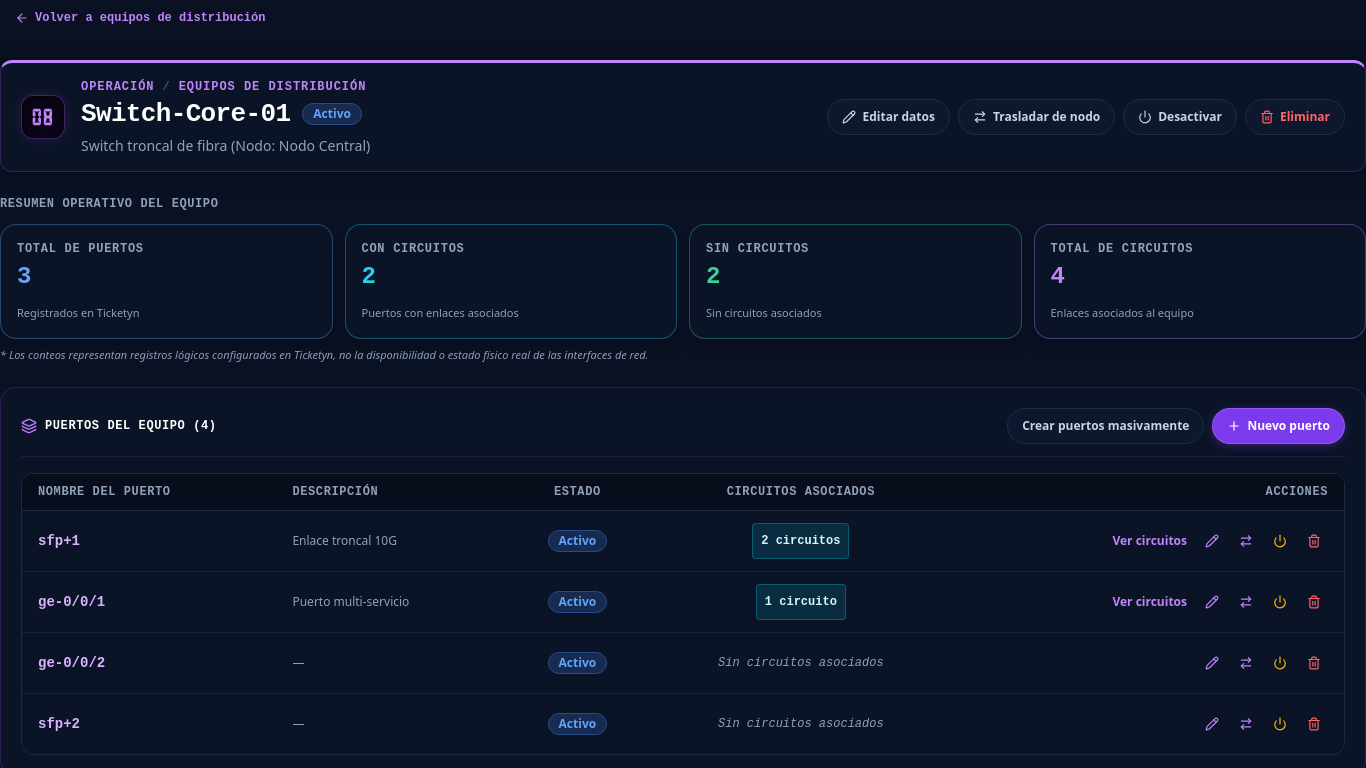
Test: DistributionDeviceDetail — Ficha técnica y gestión de puertos › bloquea la desactivación y eliminación de un puerto con circuitos
Expected: the text "sfp+1" is shown, [38,533,80,549]
// Attempt deactivate port with 2 circuits
Click the button named "Desactivar puerto sfp+1": (1280, 541) [1266,523,1294,559]
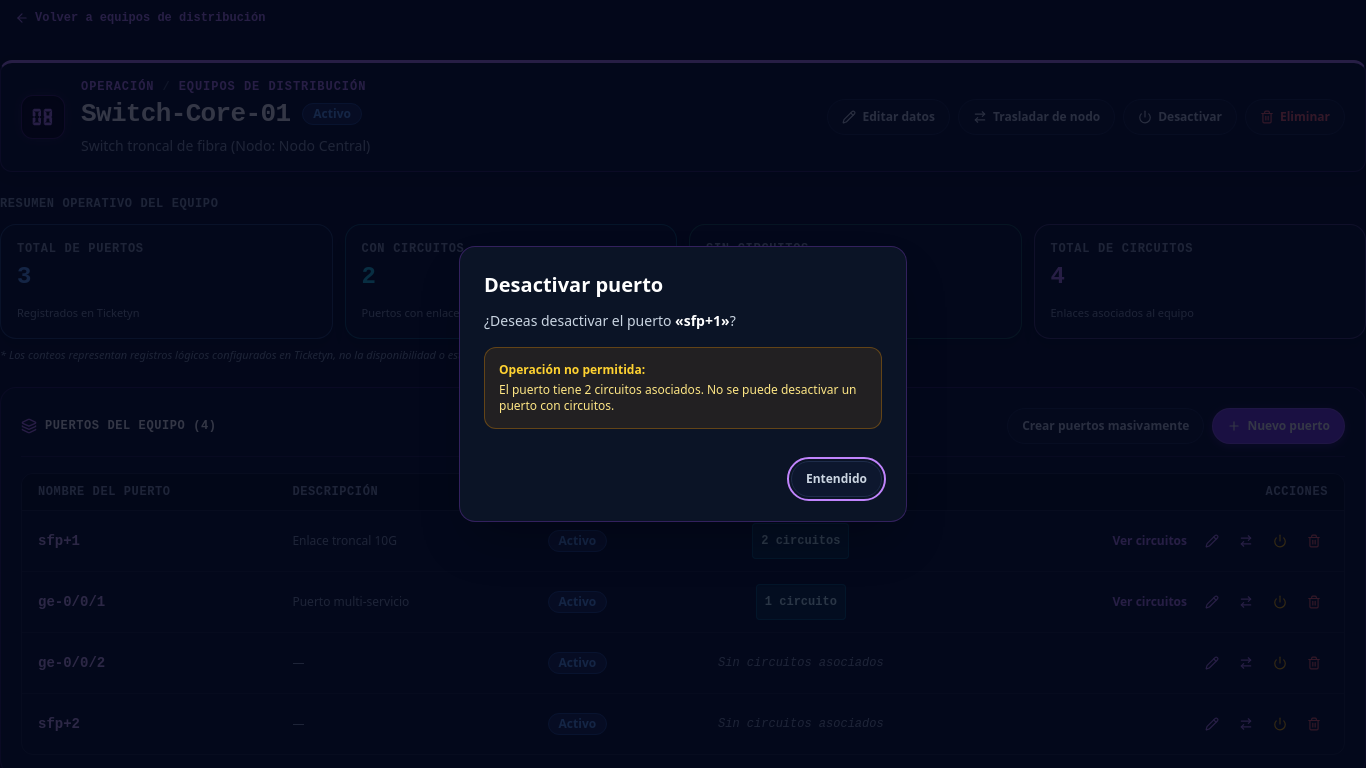
// Close modal
Click the button "Entendido": (836, 479) [791,461,882,497]
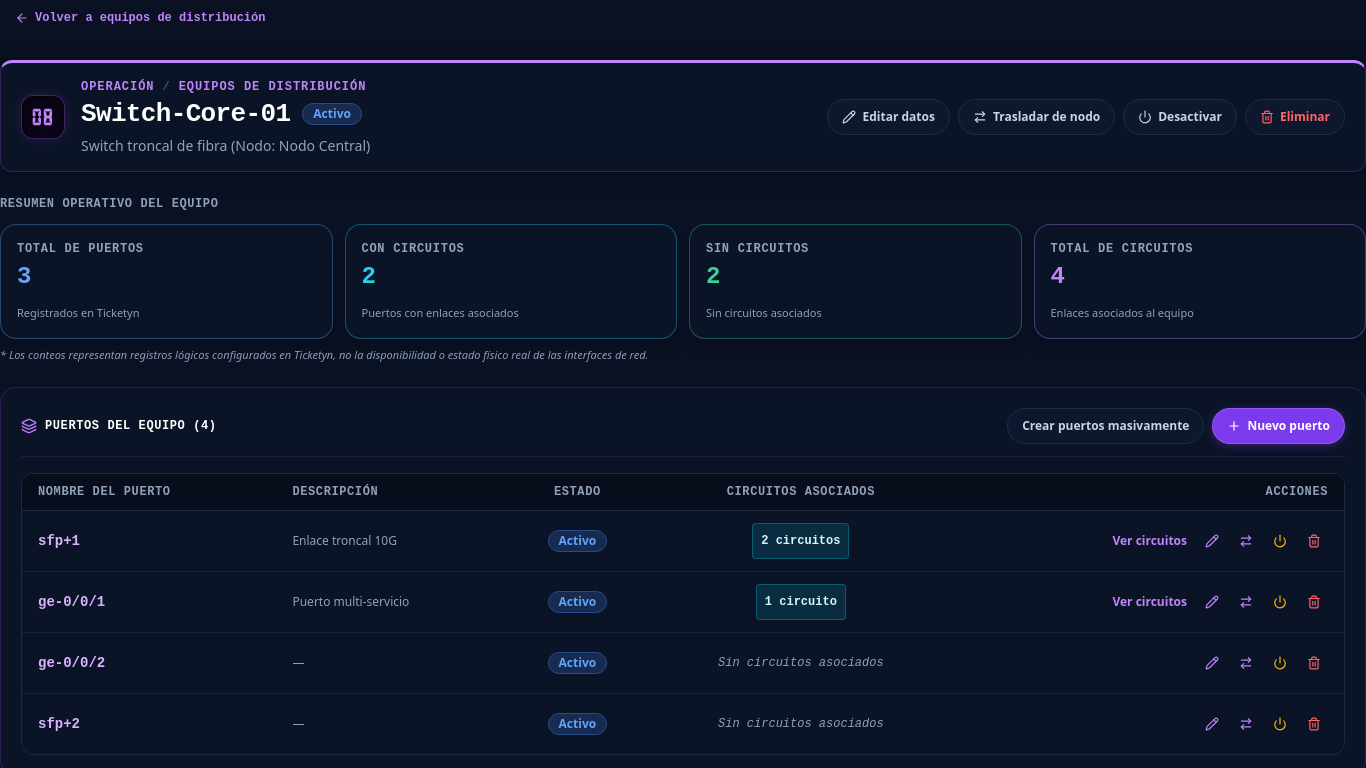
// Attempt delete port with 2 circuits
Click the button named "Eliminar puerto sfp+1": (1314, 541) [1300,523,1328,559]
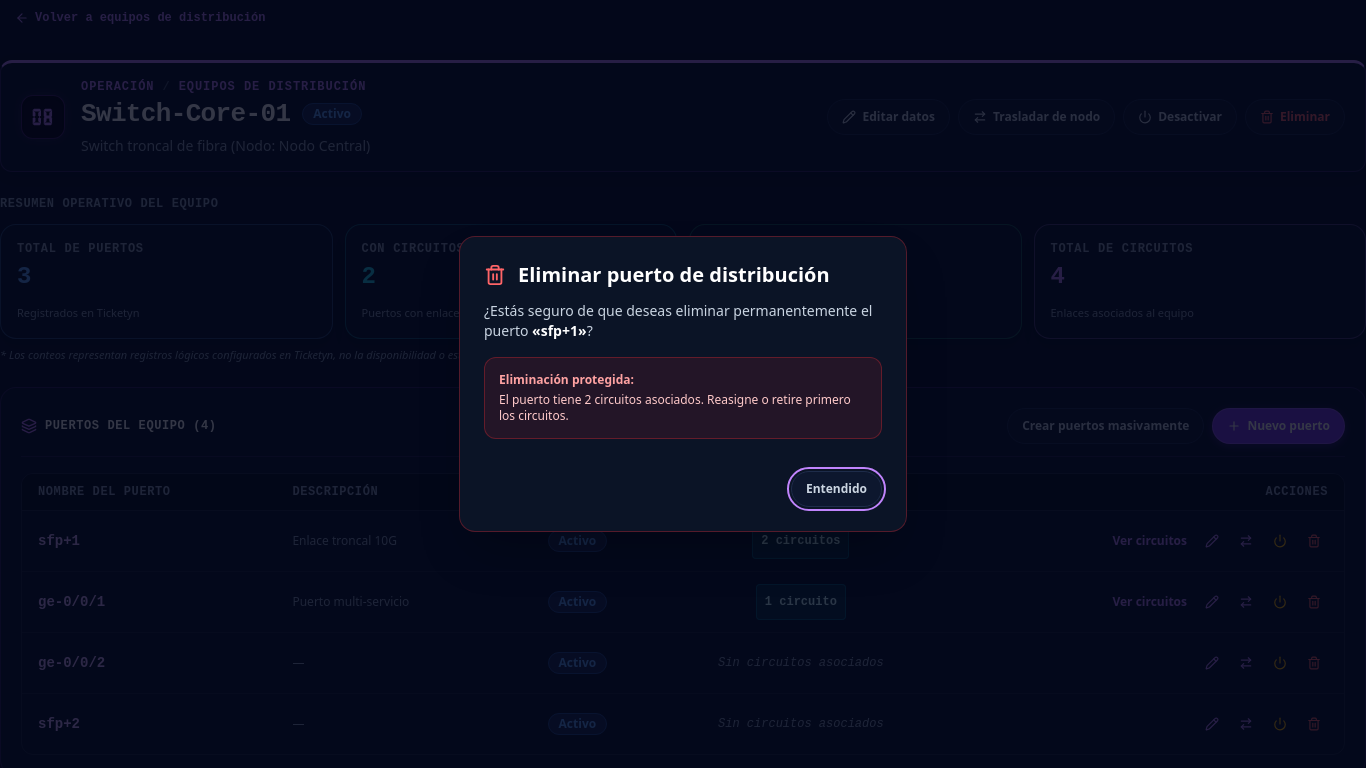
Now the text "El puerto tiene 2 circuitos asociados" is shown, box [499,391,851,424]
